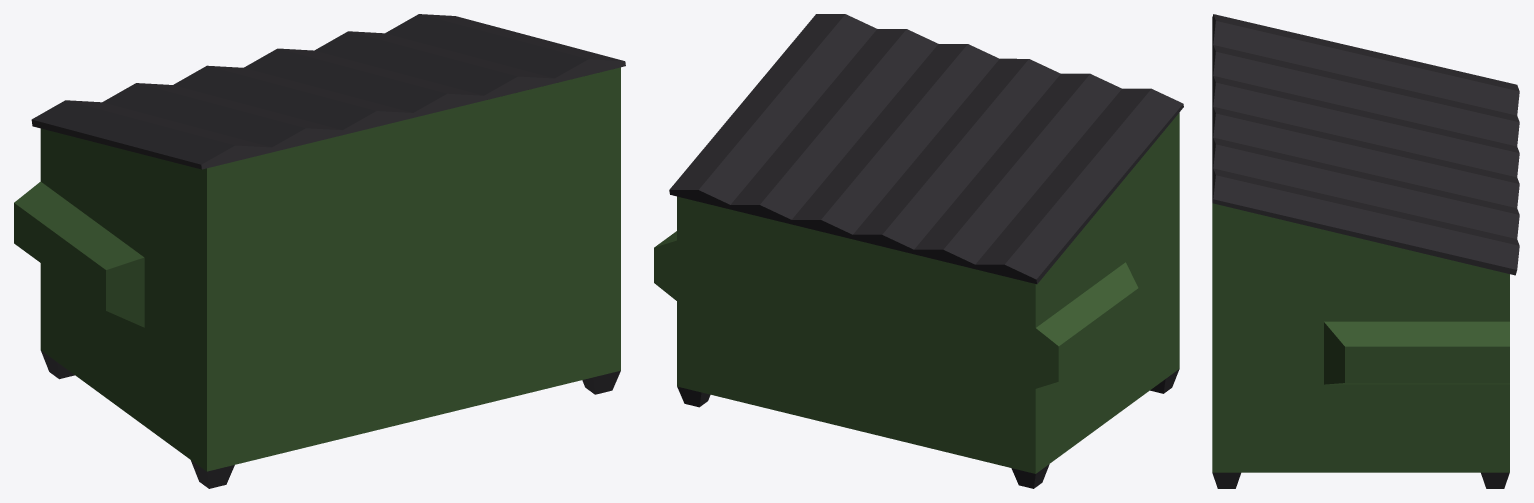
The model's file is prop_dumptser_1.fbx.
The picture shows the model from 3 angles, left to right: view 1: azimuth 30°, elevation 25°; view 2: azimuth 150°, elevation 25°; view 3: azimuth 270°, elevation 25°; orthographic projection. The views are drawn at different scales.
Parts seen in each view (by area): view 1: prop_dumptser_1; view 2: prop_dumptser_1; view 3: prop_dumptser_1.
Boxes of the visible parts, x1=… form: prop_dumptser_1: x1=14, y1=14, x2=625, y2=488; prop_dumptser_1: x1=654, y1=14, x2=1183, y2=488; prop_dumptser_1: x1=1212, y1=14, x2=1519, y2=488.
Bounding box in the file's own units: 25.39 × 17.56 × 16.16.
